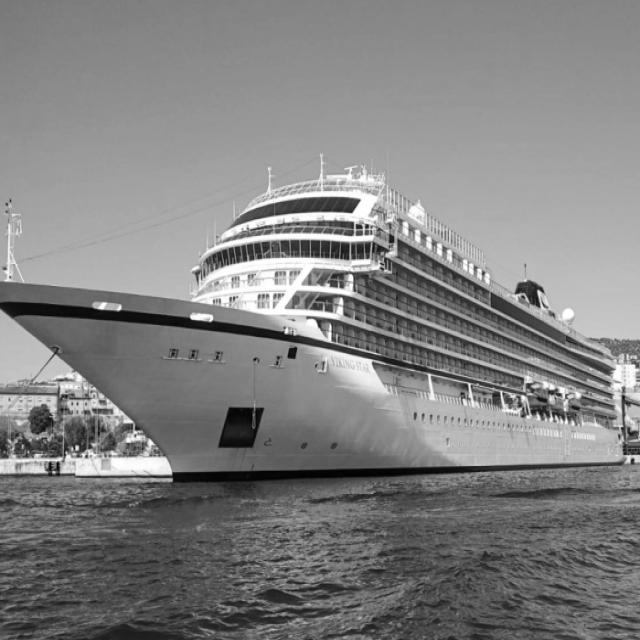cruises: (1, 151, 635, 487)
